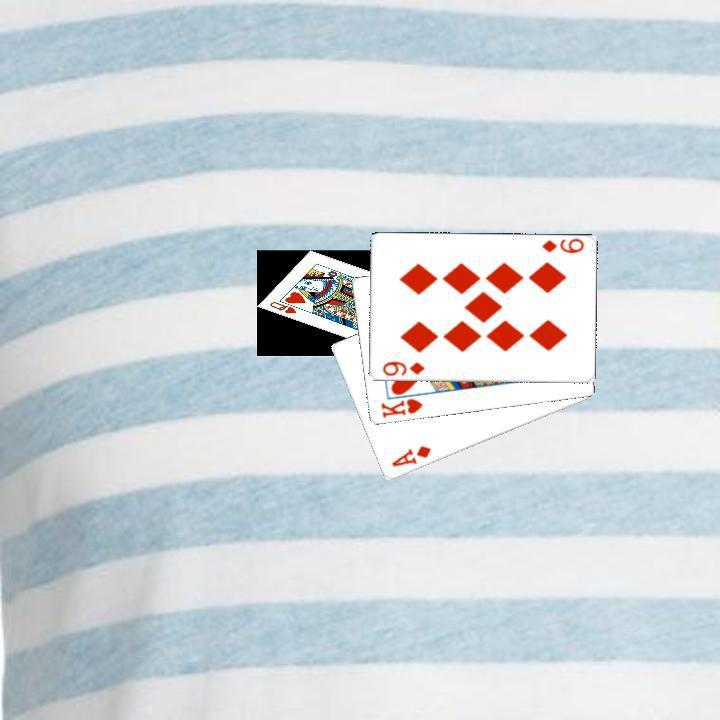9: (378, 357, 426, 377), (537, 236, 586, 255)
A: (387, 442, 433, 469)
K: (377, 394, 424, 420)
